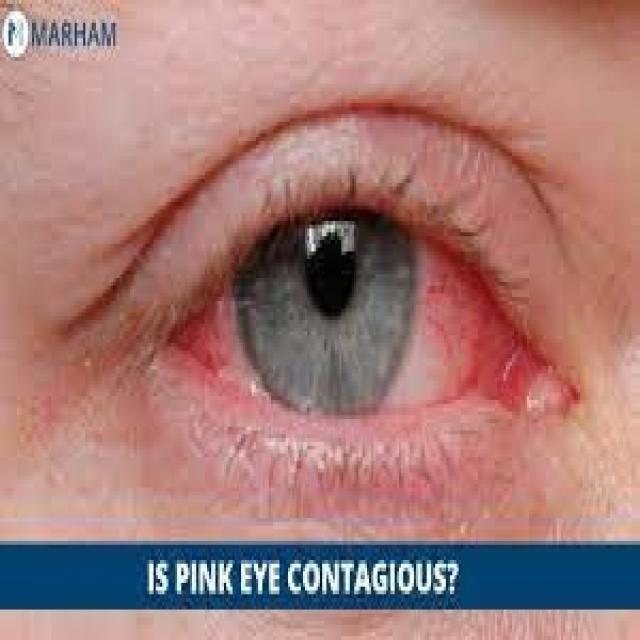Conjunctivitis: (152, 240, 558, 436)
